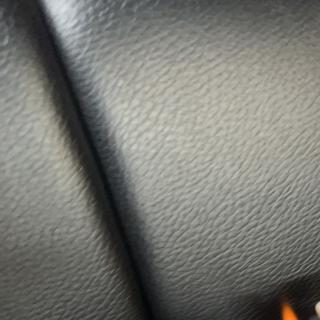fire: (279, 305, 306, 320)
